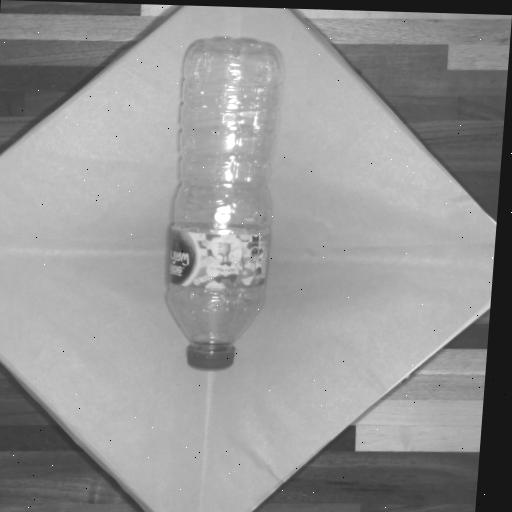bottle: (167, 42, 280, 368)
